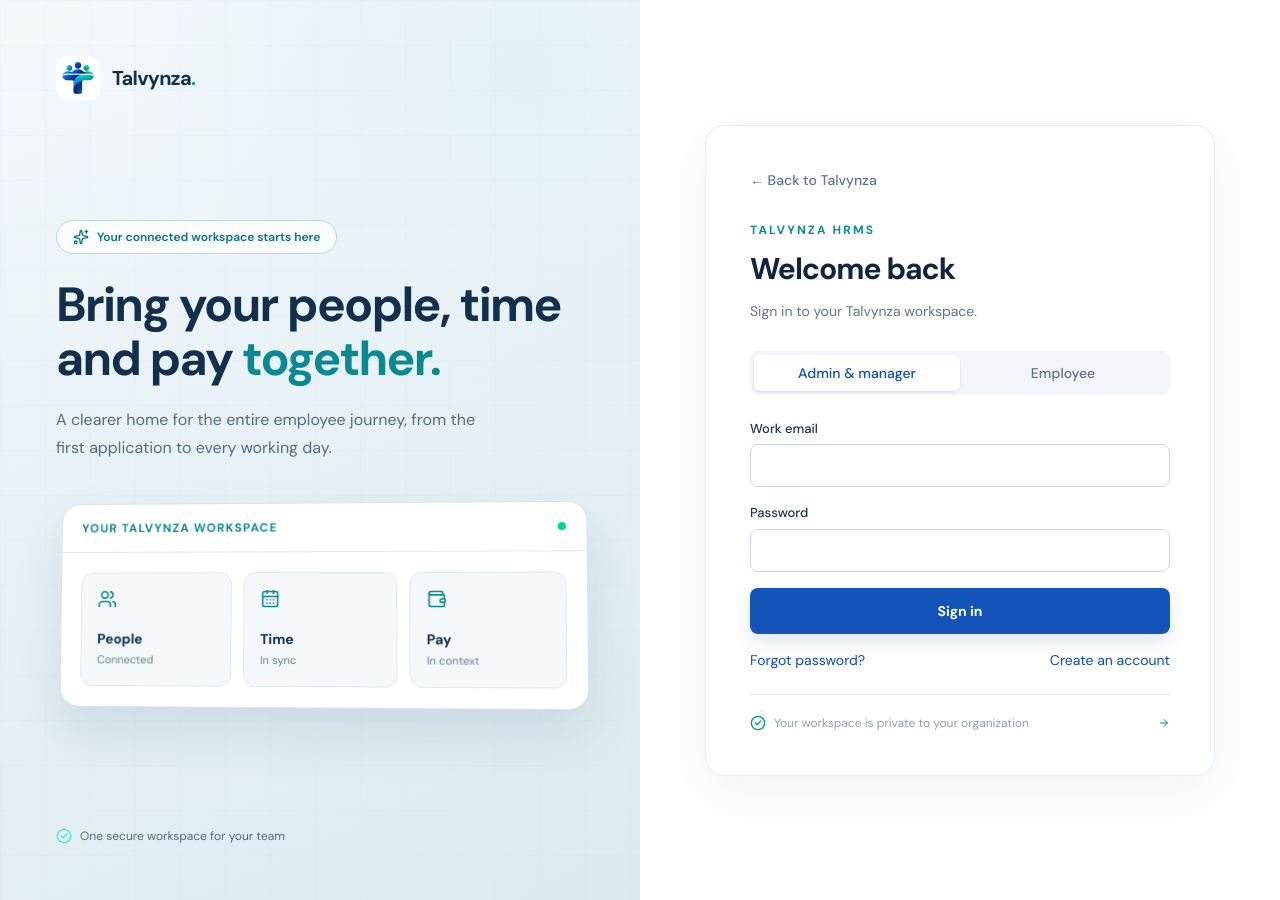
Test: auth pages › shows a server error message on bad credentials
This screenshot has width=1280, height=900.
In the field labelled "Work email": [960, 466] box x1=750 y1=444 x2=1170 y2=487, type "a@b.co"
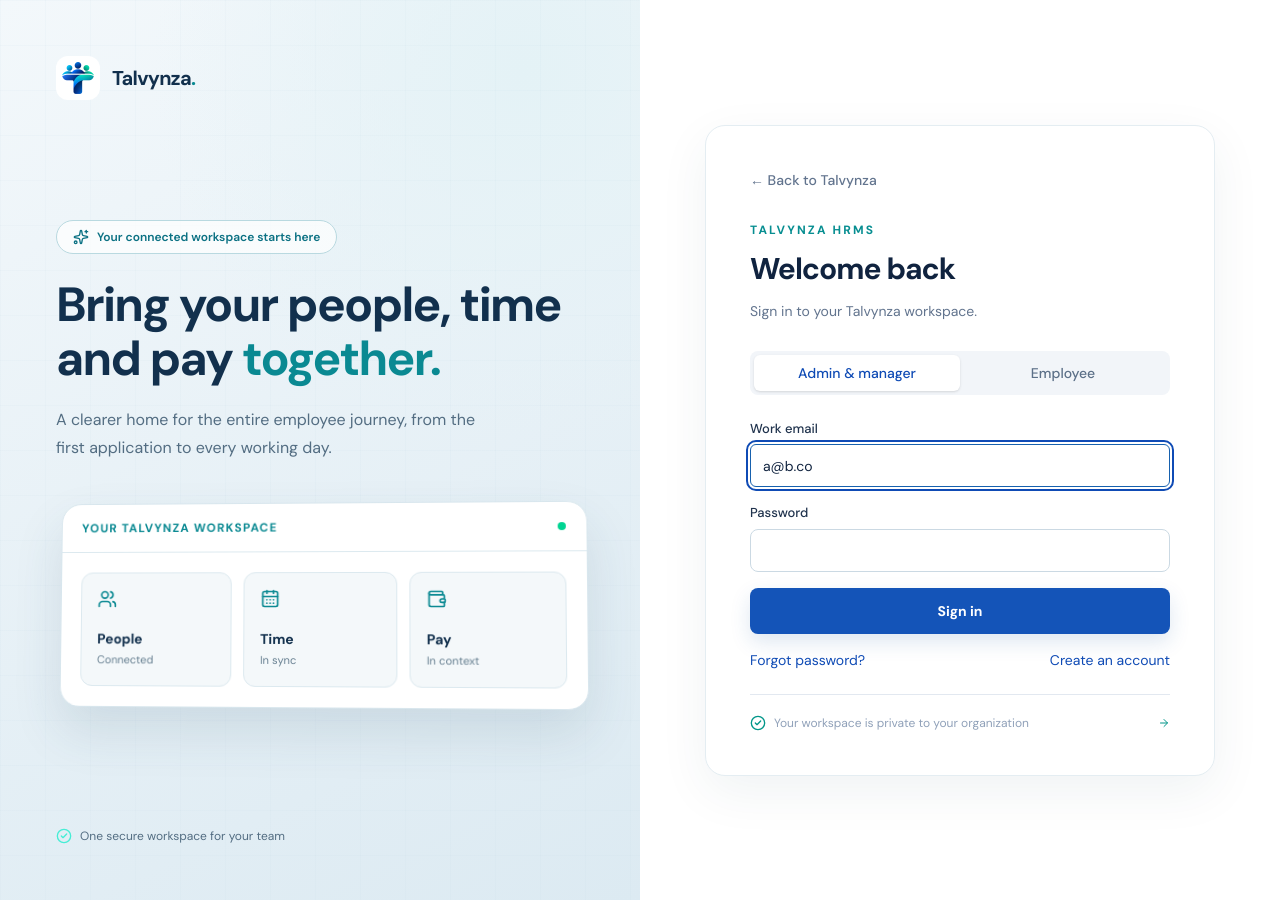
In the password field labelled "Password": [960, 550] box x1=750 y1=528 x2=1170 y2=572, type "whatever-123"
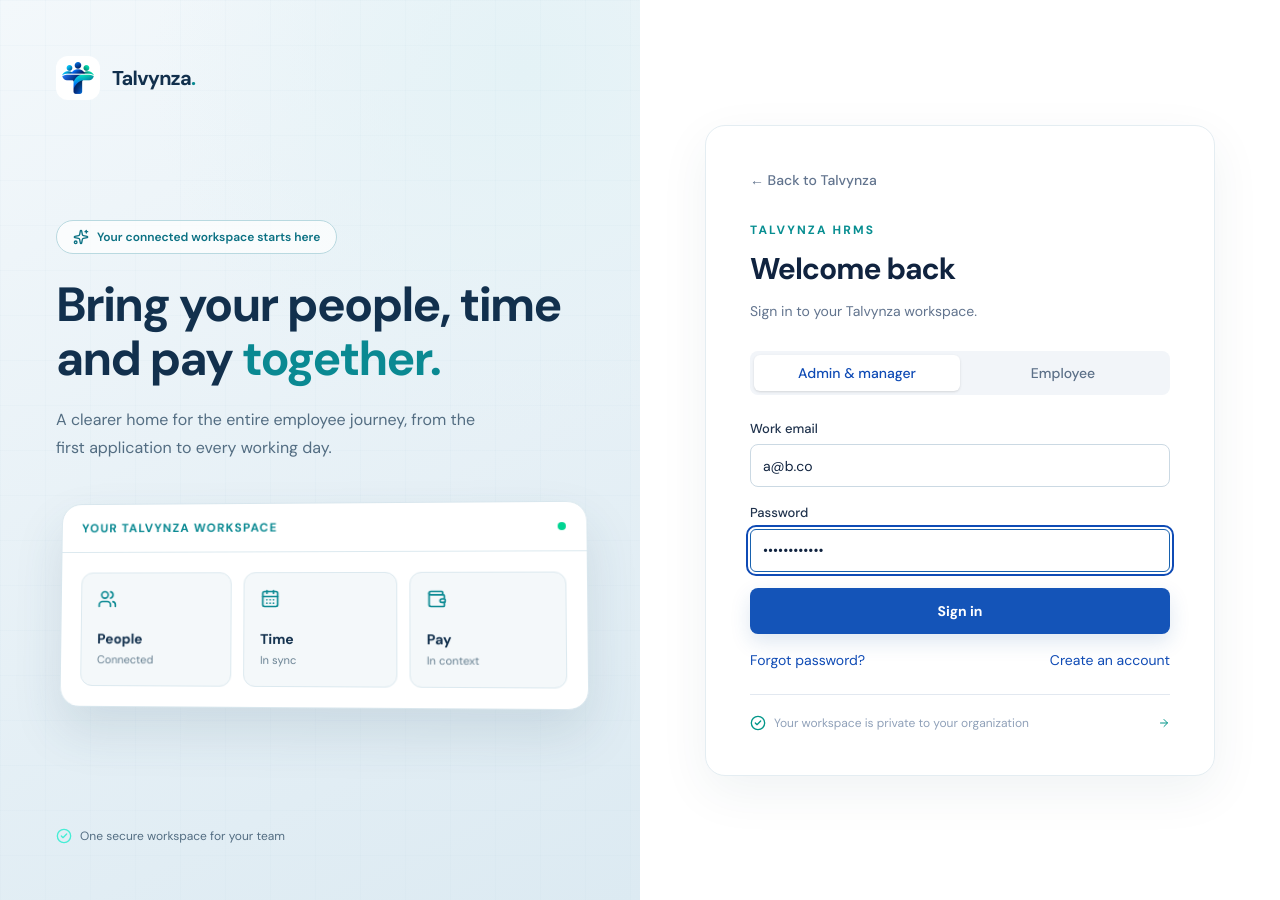
Click the button "Sign in": [960, 610] box x1=750 y1=588 x2=1170 y2=634
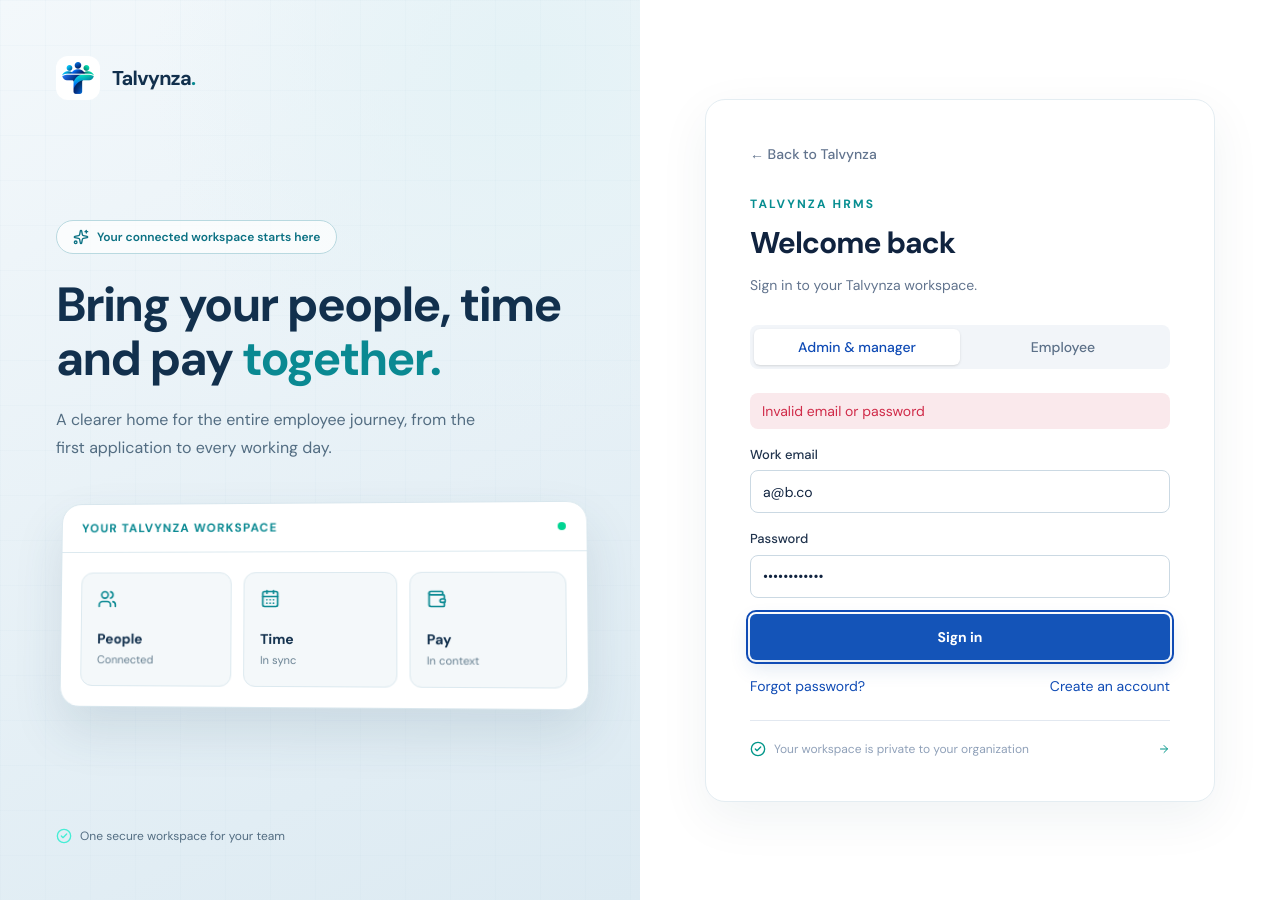
Result: the message reads "Invalid email or password" at x1=762 y1=402 x2=925 y2=420
